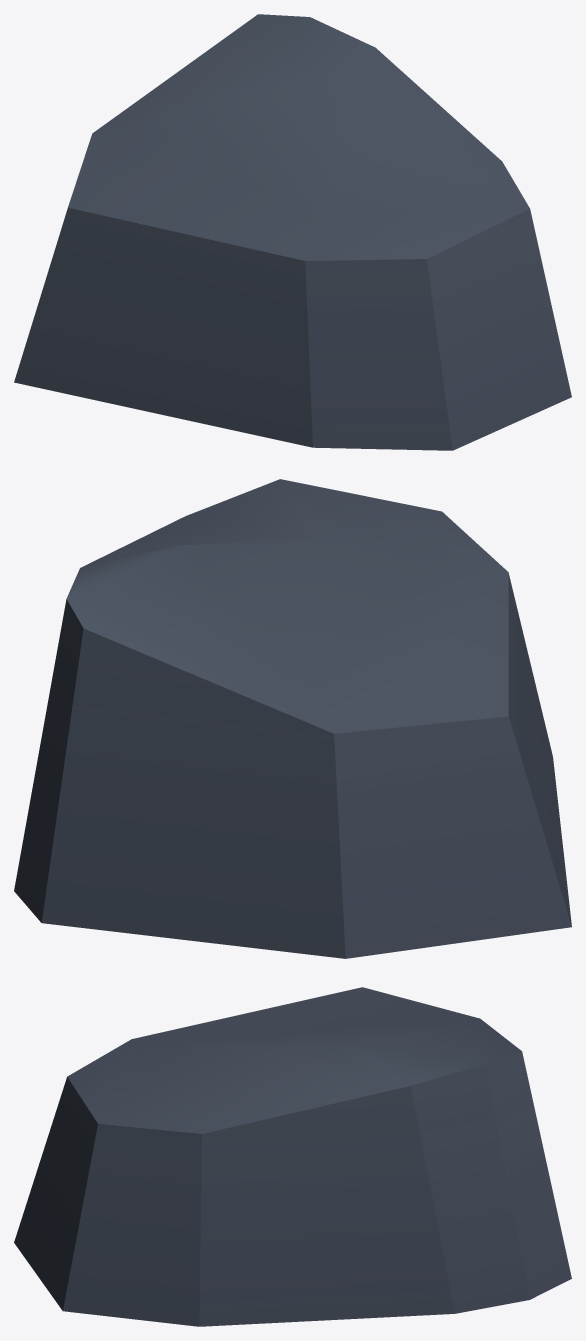
File: Rock_B_3.glb
3 views of the same model, one above another, from view 1: azimuth 30°, elevation 25°; view 2: azimuth 150°, elevation 25°; view 3: azimuth 270°, elevation 25° (orthographic). The views are drawn at different scales.
Parts seen in each view (by area): view 1: Rock_B_3; view 2: Rock_B_3; view 3: Rock_B_3.
Boxes of the visible parts, left/top/right/bottom form: Rock_B_3: left=14, top=14, right=571, bottom=450; Rock_B_3: left=14, top=479, right=571, bottom=958; Rock_B_3: left=14, top=987, right=571, bottom=1326.
Bounding box in the file's own units: 0.8768 × 0.4508 × 0.9982.
1 material, 1 textured.
